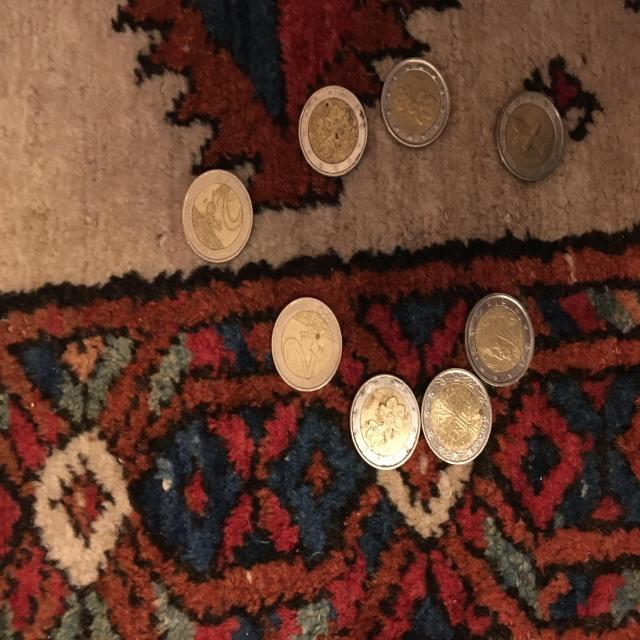2e: (411, 355, 501, 485), (452, 283, 550, 398), (288, 76, 384, 191), (489, 76, 575, 200), (345, 365, 433, 483), (374, 48, 462, 163), (177, 160, 260, 275), (264, 288, 348, 399)
